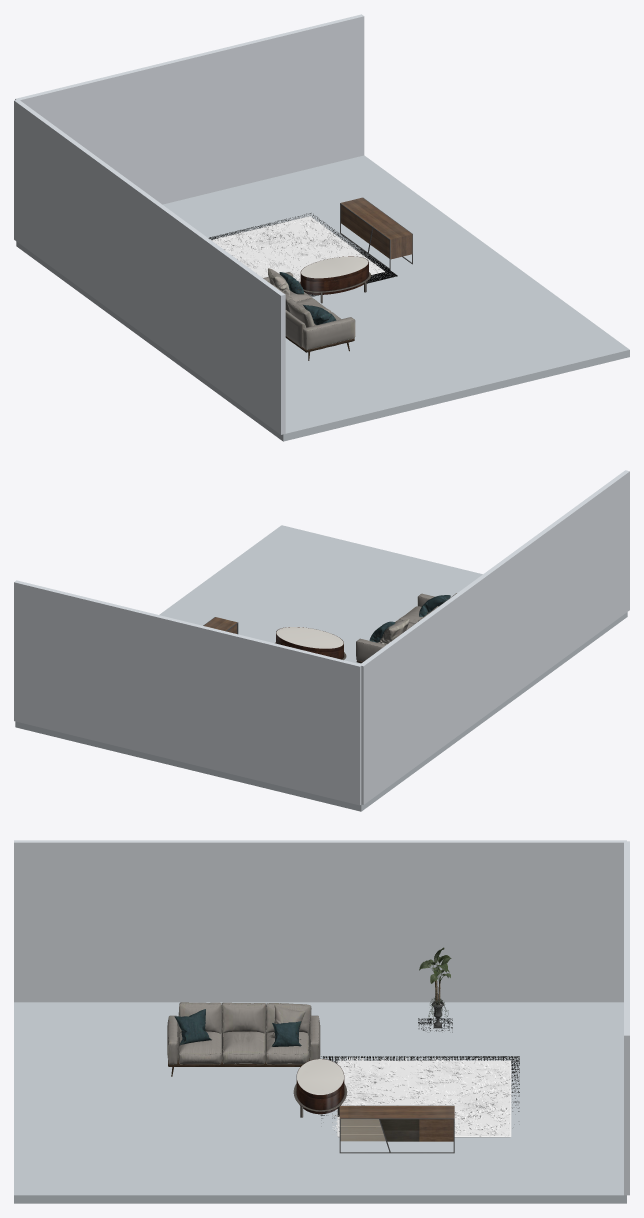
The model's file is stage3.glb.
3 renders of one model, top to bottom at view 1: azimuth 30°, elevation 25°; view 2: azimuth 150°, elevation 25°; view 3: azimuth 270°, elevation 25°, orthographic. The views are drawn at different scales.
Parts seen in each view (by area): view 1: Floor, wall_back, wall_left, raw_model.003, raw_model, raw_model.002, raw_model.001; view 2: wall_back, wall_left, Floor, raw_model, raw_model.001; view 3: wall_left, Floor, raw_model.003, raw_model, raw_model.002, raw_model.001, wall_back, raw_model.004.
Boxes of the visible parts, x1,y1,x2,y2 form: Floor: (16, 155, 629, 441); wall_back: (15, 14, 364, 204); wall_left: (14, 100, 285, 434); raw_model.003: (208, 213, 397, 296); raw_model: (263, 268, 355, 360); raw_model.002: (340, 197, 412, 269); raw_model.001: (299, 256, 371, 303); wall_back: (14, 580, 361, 805); wall_left: (360, 470, 629, 804); Floor: (15, 525, 627, 811); raw_model: (356, 593, 456, 663); raw_model.001: (275, 627, 346, 659); wall_left: (14, 840, 626, 1002); Floor: (14, 1002, 626, 1203); raw_model.003: (320, 1056, 519, 1137); raw_model: (167, 1002, 320, 1076); raw_model.002: (339, 1105, 454, 1153); raw_model.001: (293, 1059, 347, 1117); wall_back: (624, 841, 629, 1195); raw_model.004: (418, 947, 452, 1032).
Bounding box in the file's own units: 6.04 × 2.42 × 8.04.
Materials: 7 (5 with a texture image).
